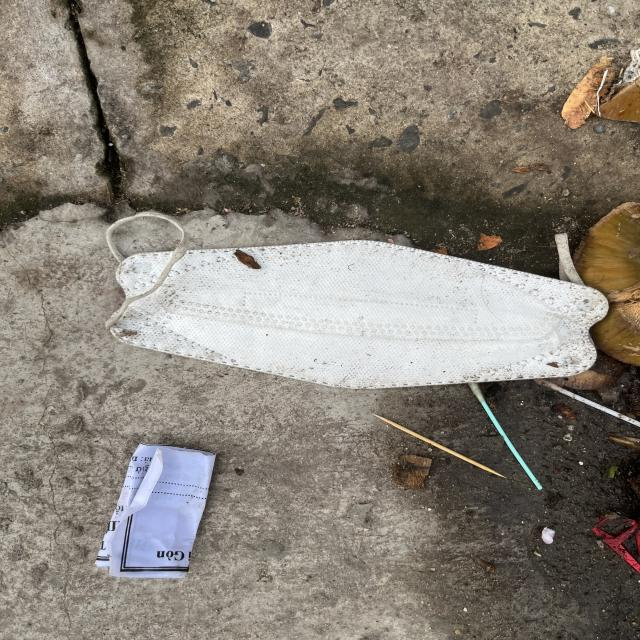mask: (106, 212, 609, 389)
paper: (95, 442, 218, 578)
